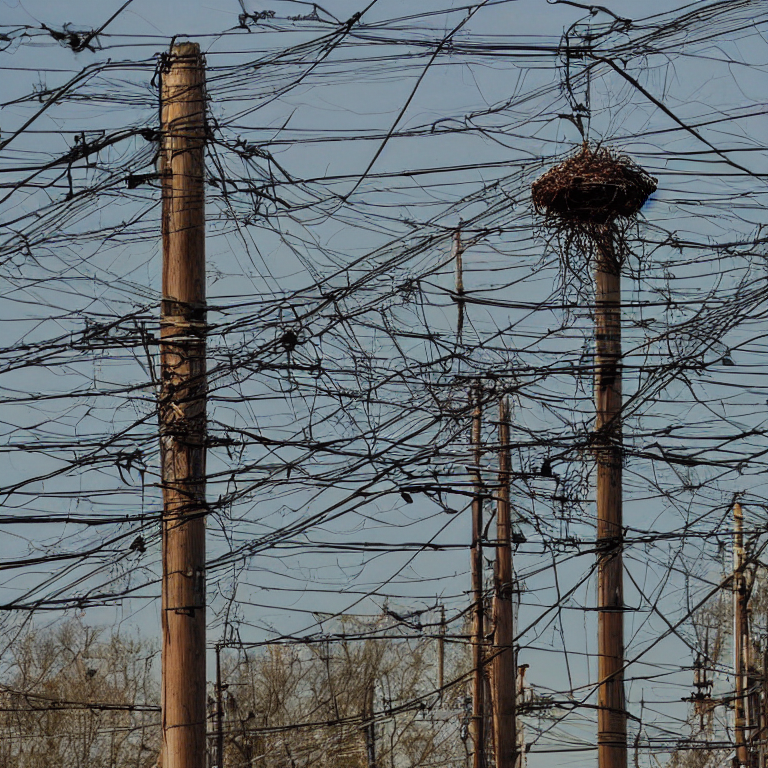nest: (536, 149, 653, 232)
